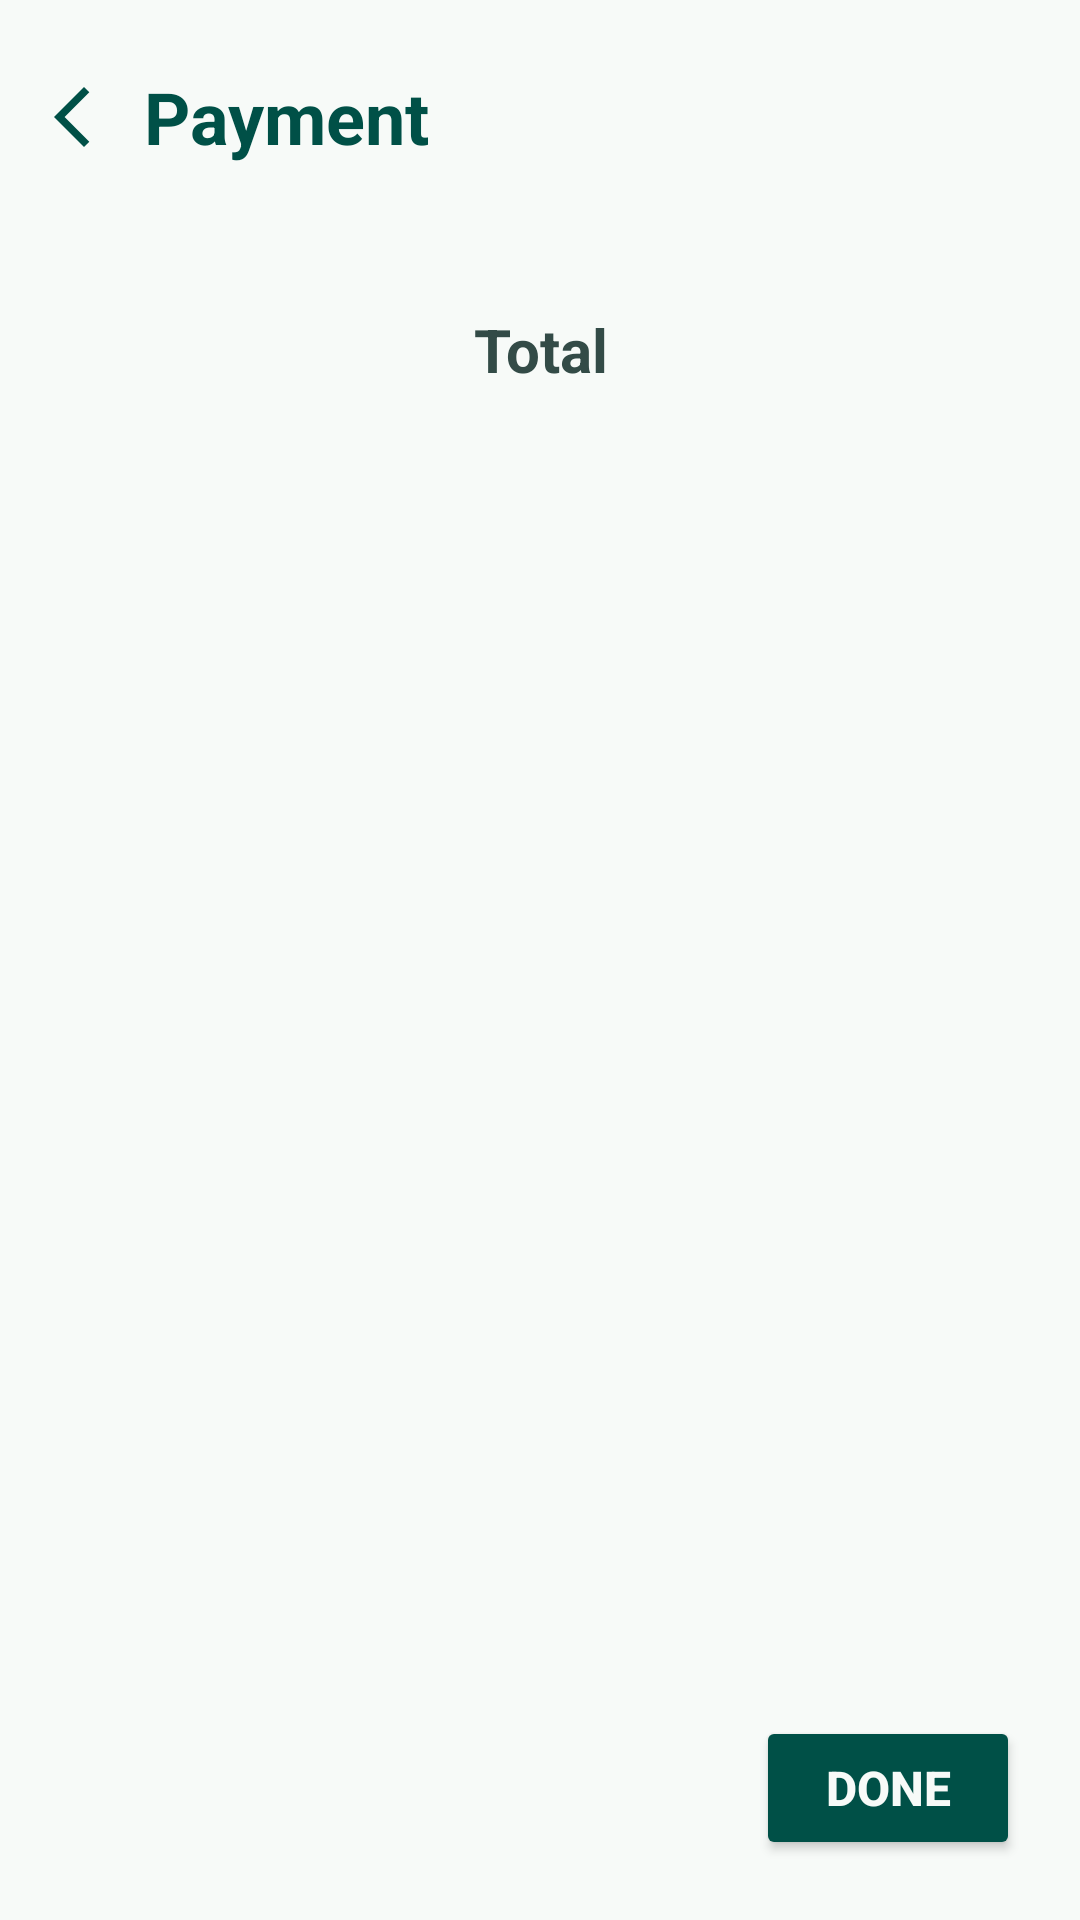

Where to tap for icons on this 1080 × 1920 app screen, as [x,y]:
back: [71,117]
